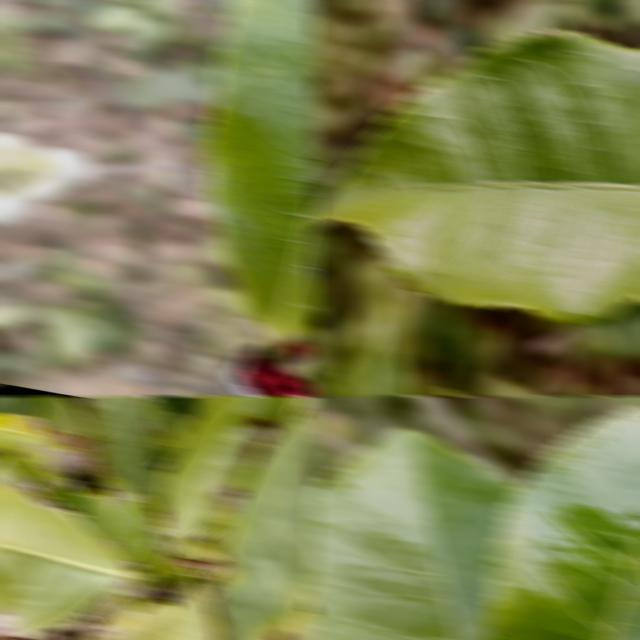Leaf: (309, 29, 640, 324), (309, 429, 516, 640), (203, 0, 317, 345), (482, 406, 640, 640), (208, 418, 317, 640), (160, 396, 300, 547), (0, 484, 132, 637), (0, 412, 117, 504), (79, 476, 168, 569), (325, 304, 412, 396), (80, 396, 162, 493), (155, 579, 219, 640), (574, 300, 640, 356), (90, 602, 176, 640), (117, 566, 186, 610), (33, 396, 93, 437), (84, 592, 135, 640), (475, 375, 546, 396), (292, 610, 317, 640)
